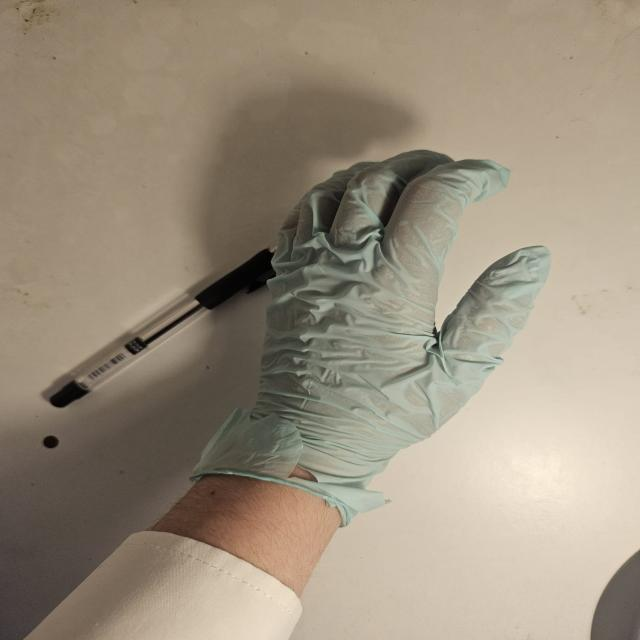gloves_damaged: (188, 145, 554, 520)
